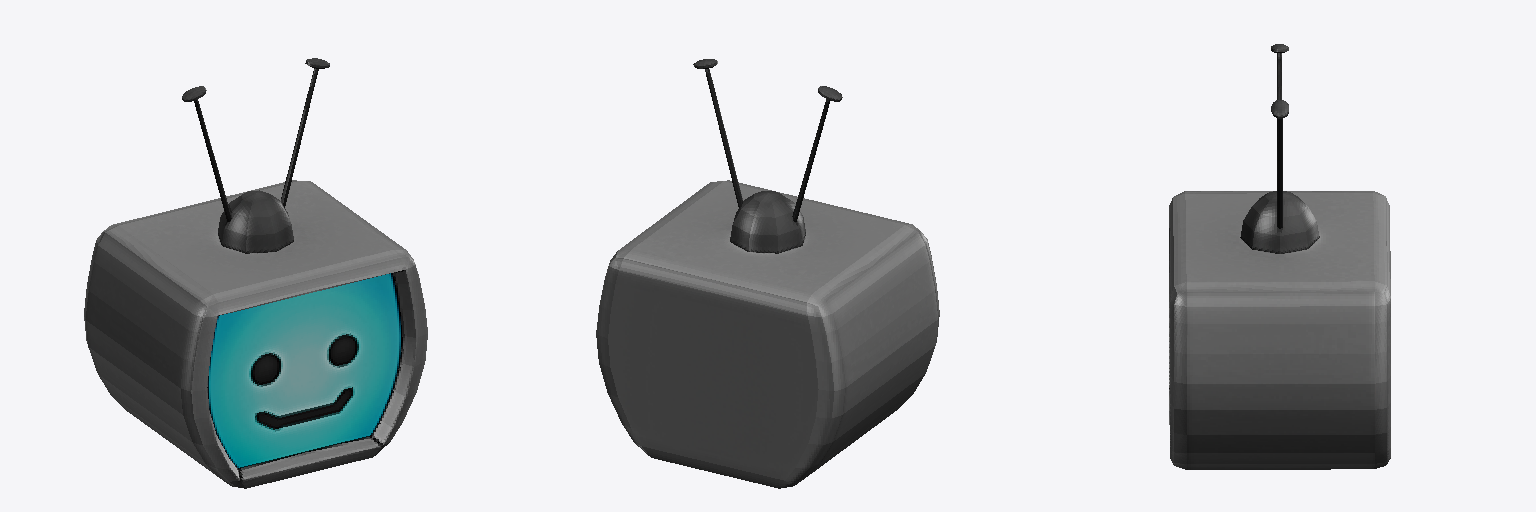
3 renders of one model, left to right at view 1: azimuth 30°, elevation 25°; view 2: azimuth 150°, elevation 25°; view 3: azimuth 270°, elevation 25°, orthographic.
Parts seen in each view (by area): view 1: Handle1; view 2: Handle1; view 3: Handle1.
Boxes of the visible parts, <box> form: Handle1: <box>84,58,427,488</box>; Handle1: <box>596,59,939,488</box>; Handle1: <box>1169,44,1390,469</box>.
Size of the model in its own units: 1.82 by 2.55 by 1.41.
1 materials, 1 textured.